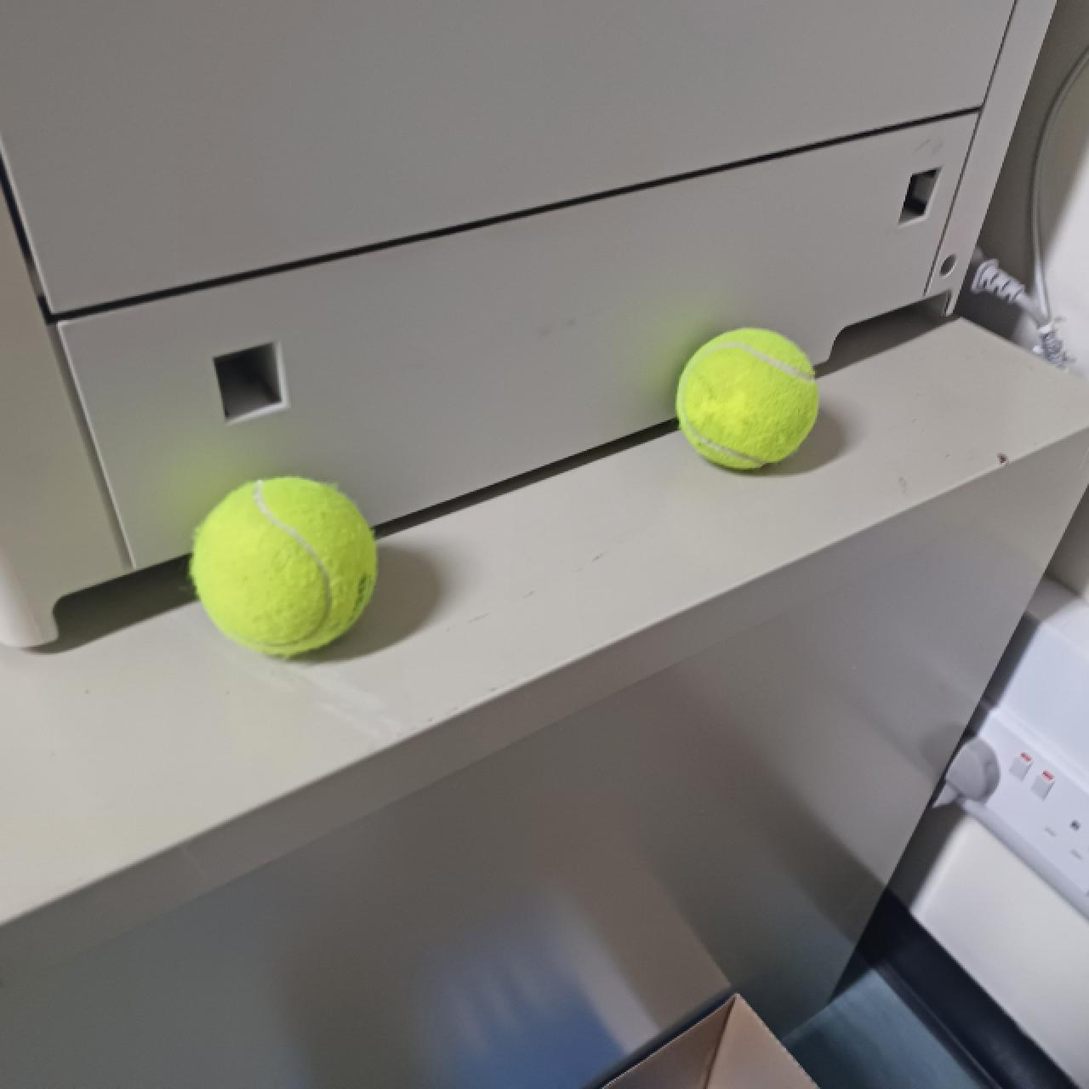tennis-ball: (189, 473, 382, 657), (676, 323, 820, 475)
